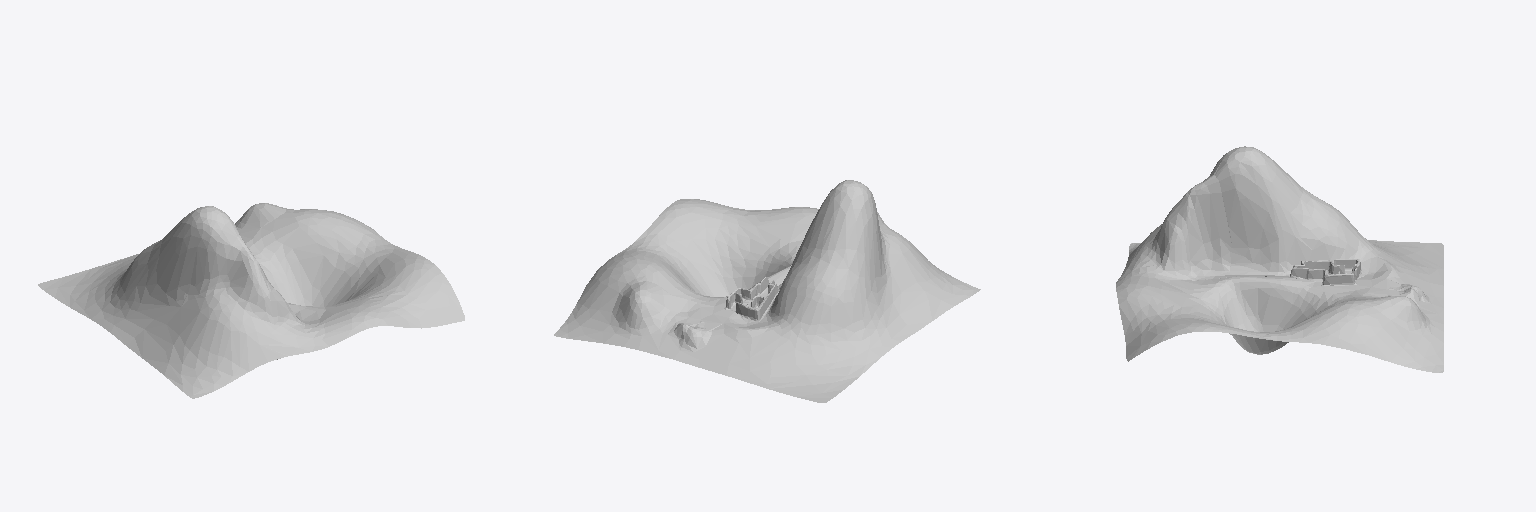
The model's file is ruinas.obj.
The picture shows the model from 3 angles: view 1: azimuth 30°, elevation 25°; view 2: azimuth 150°, elevation 25°; view 3: azimuth 270°, elevation 25°; orthographic projection.
Parts seen in each view (by area): view 1: Grid_Grid.001; view 2: Grid_Grid.001; view 3: Grid_Grid.001.
Part boxes in pixels (x1,y1,x2,y2): Grid_Grid.001: (38, 203, 464, 398); Grid_Grid.001: (554, 180, 980, 402); Grid_Grid.001: (1116, 146, 1443, 372).
Size of the model in its own units: 232 by 121 by 237.